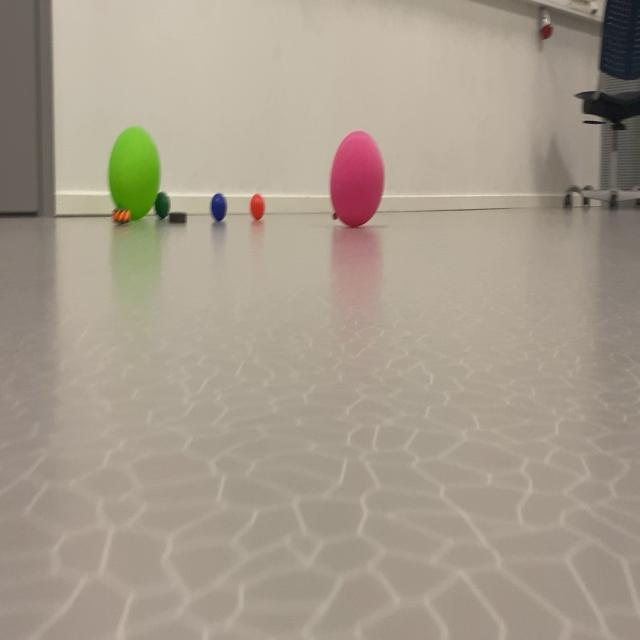7: (247, 186, 276, 242)
green ball: (207, 188, 236, 242)
red ball: (152, 186, 178, 226)
